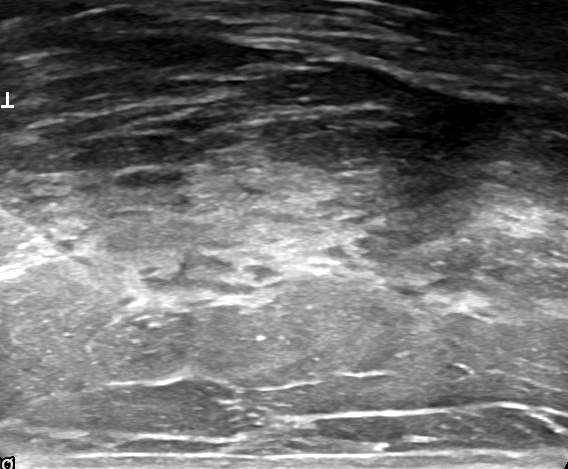Normal: (3, 28, 568, 447)
